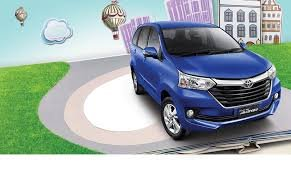mobil: (129, 21, 284, 138)
